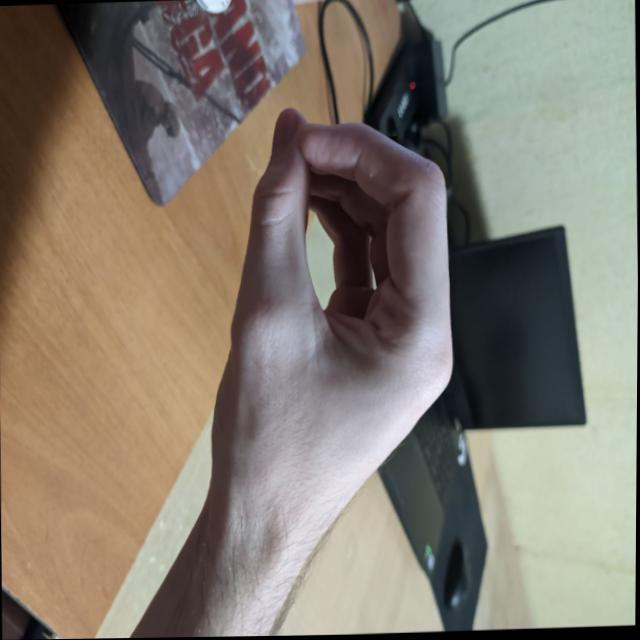e: (154, 85, 489, 529)
